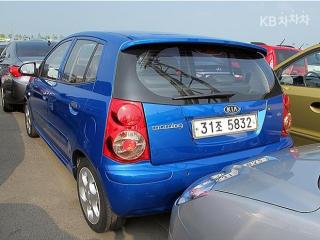1: (208, 120, 215, 133)
2: (246, 116, 253, 128)
3: (199, 121, 208, 134), (239, 117, 247, 129)
5: (227, 119, 233, 131)
8: (233, 118, 240, 130)
plate: (186, 110, 264, 141)
조: (215, 120, 223, 133)
